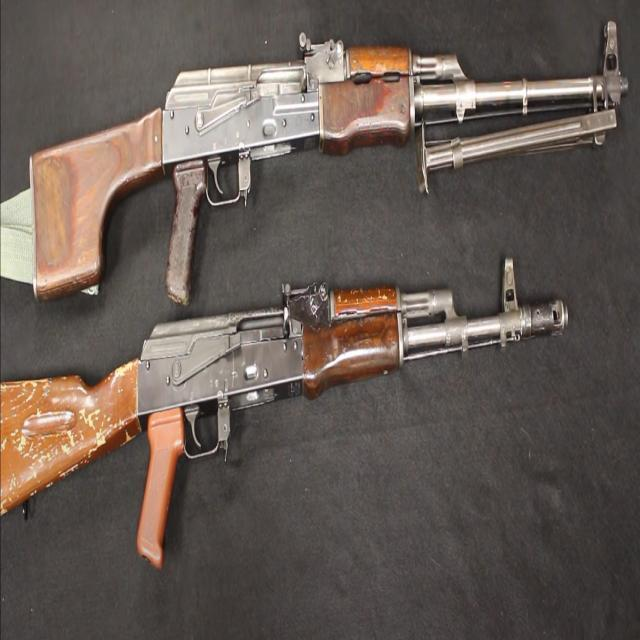ak: (1, 17, 634, 316)
